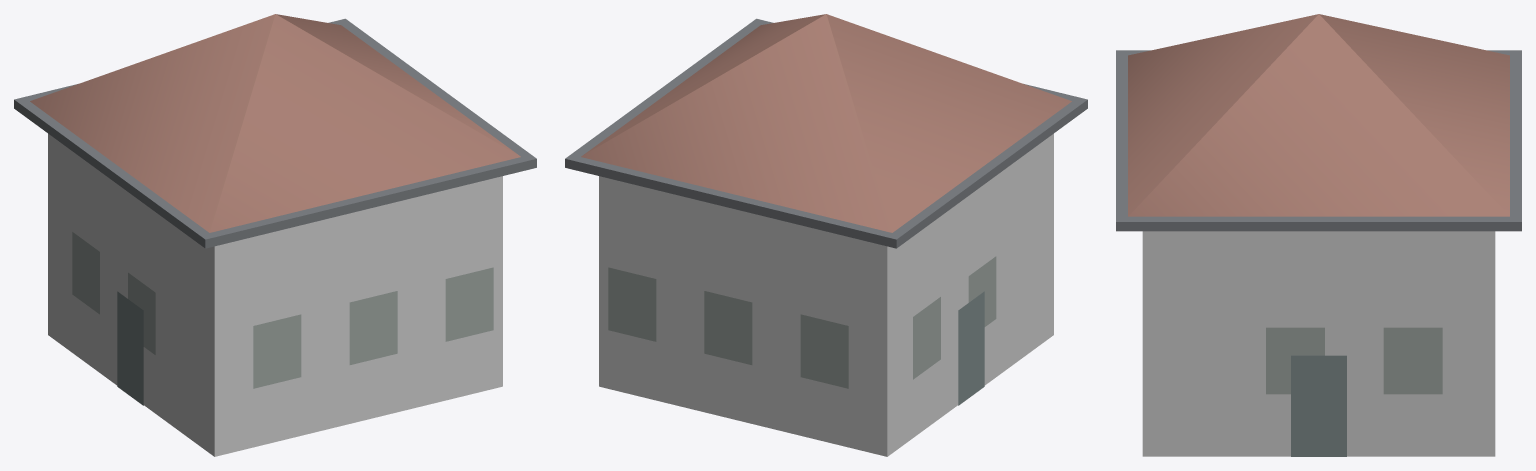
Rendered from home_0.glb.
3 views of the same model, side by side, from view 1: azimuth 30°, elevation 25°; view 2: azimuth 150°, elevation 25°; view 3: azimuth 270°, elevation 25° (orthographic). The views are drawn at different scales.
Parts seen in each view (by area): view 1: home_0; view 2: home_0; view 3: home_0.
Part boxes in pixels (bbox=[...]): home_0: bbox=[14, 14, 536, 456]; home_0: bbox=[565, 14, 1087, 456]; home_0: bbox=[1116, 14, 1521, 456].
Bounding box in the file's own units: 6.9 × 6.9 × 6.9.
